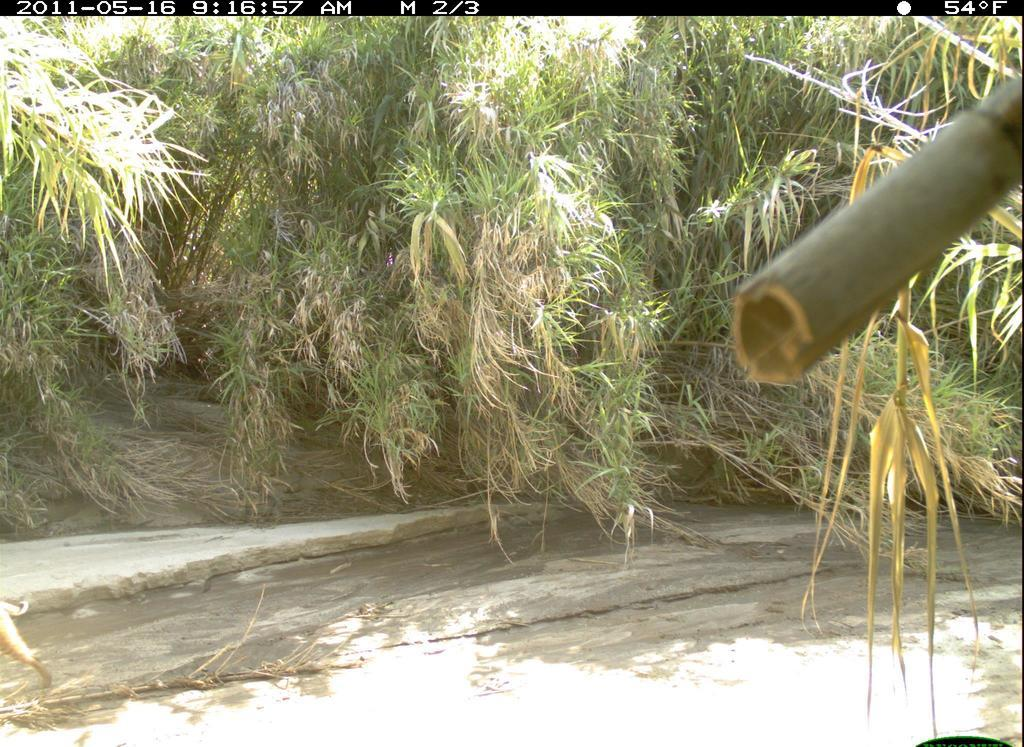bobcat: (3, 584, 67, 710)
